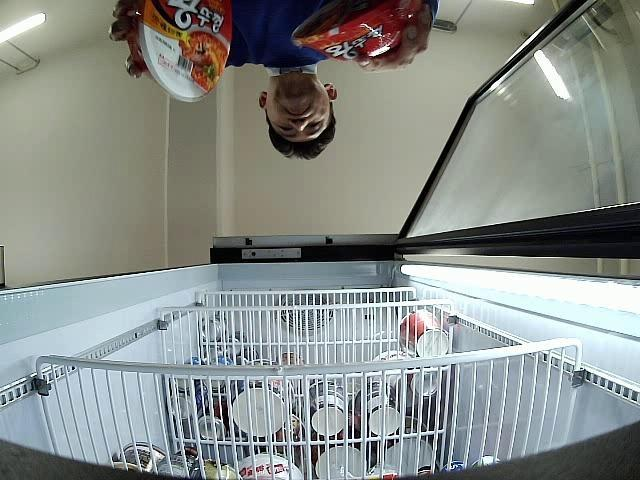10_wangTtukkeong: (128, 0, 232, 101), (292, 0, 423, 63)
